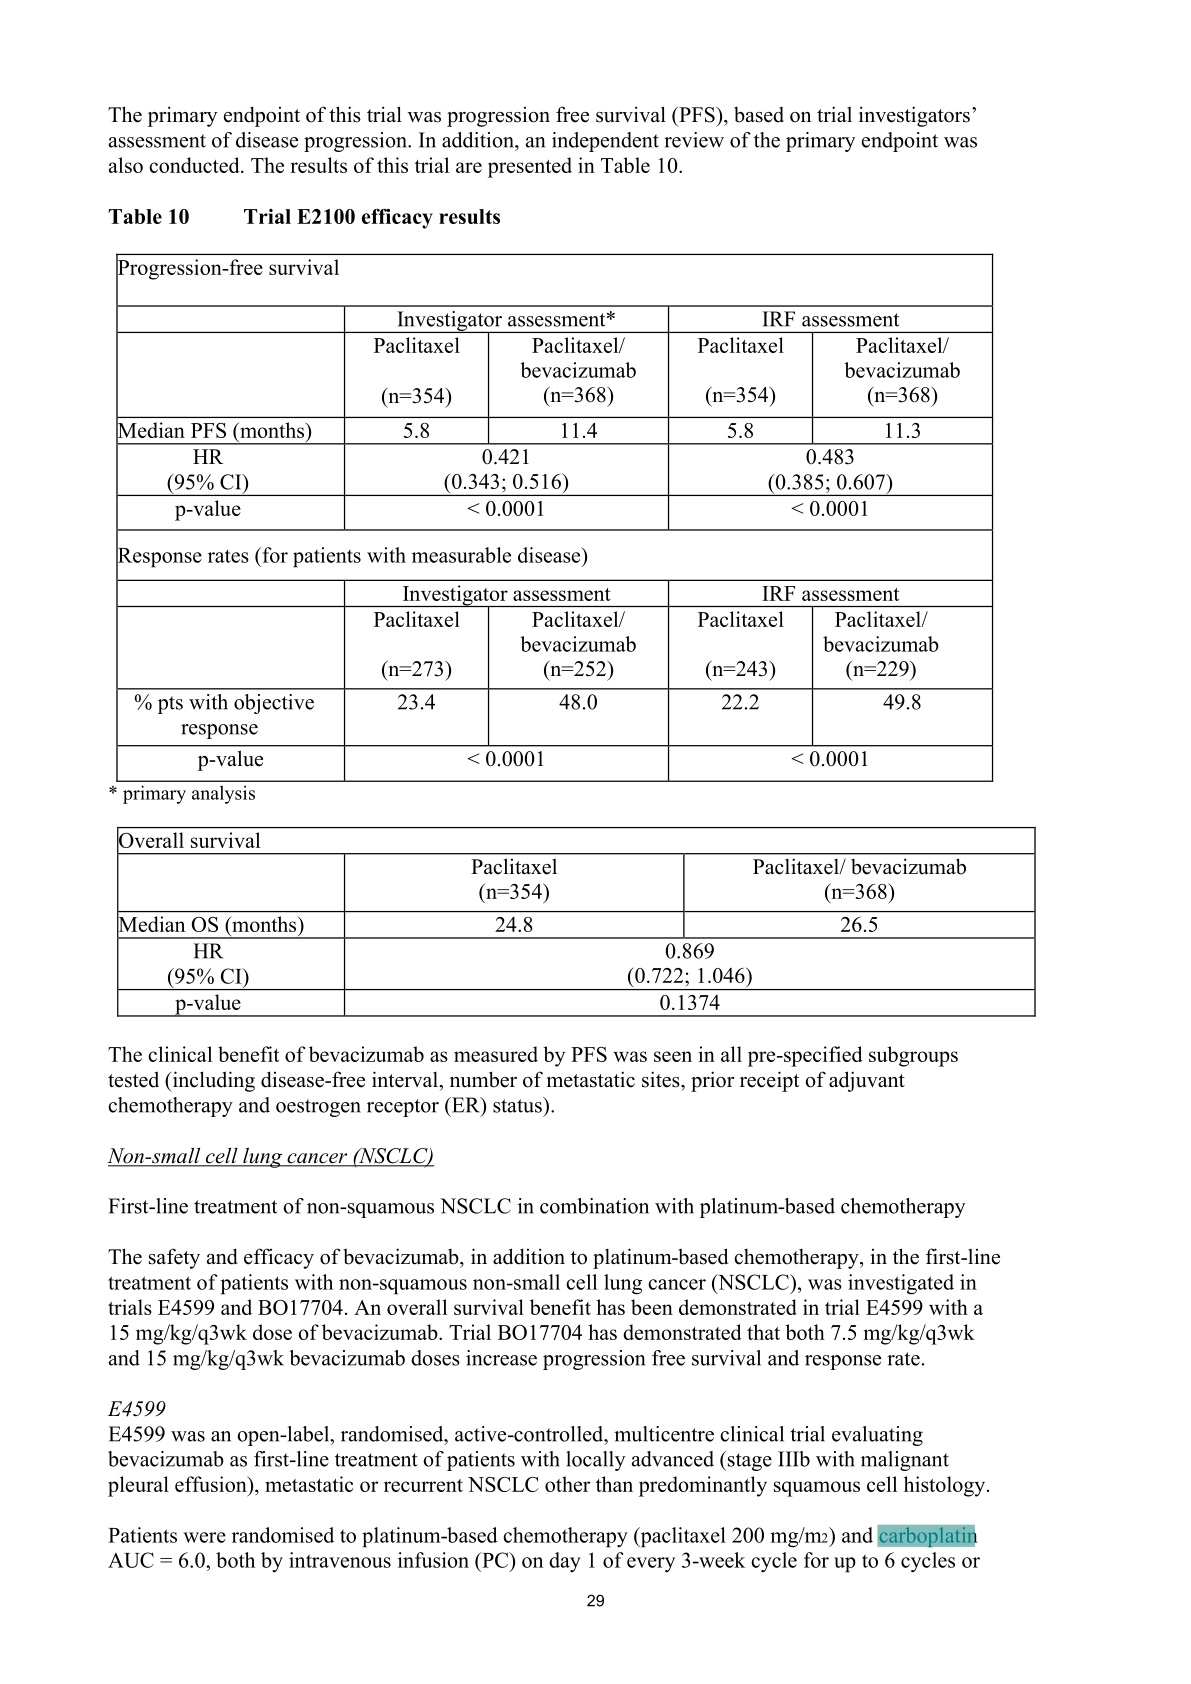merged_cells: (115, 253, 995, 783), (116, 825, 1036, 1019)
